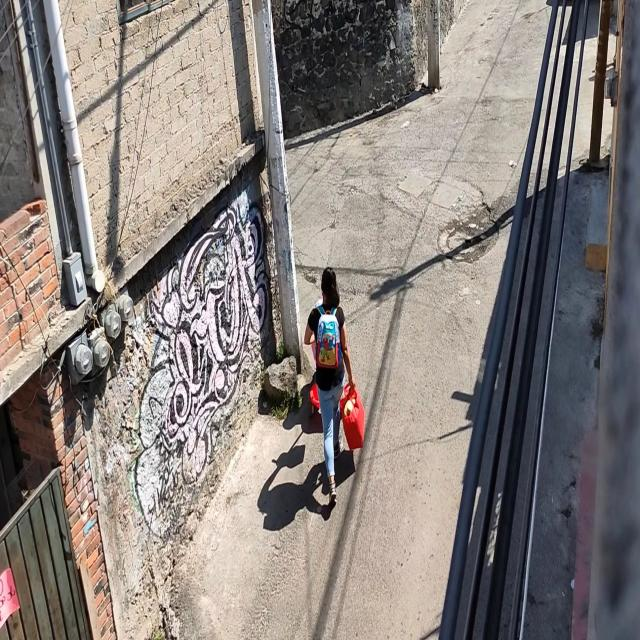adult: (303, 266, 355, 514)
